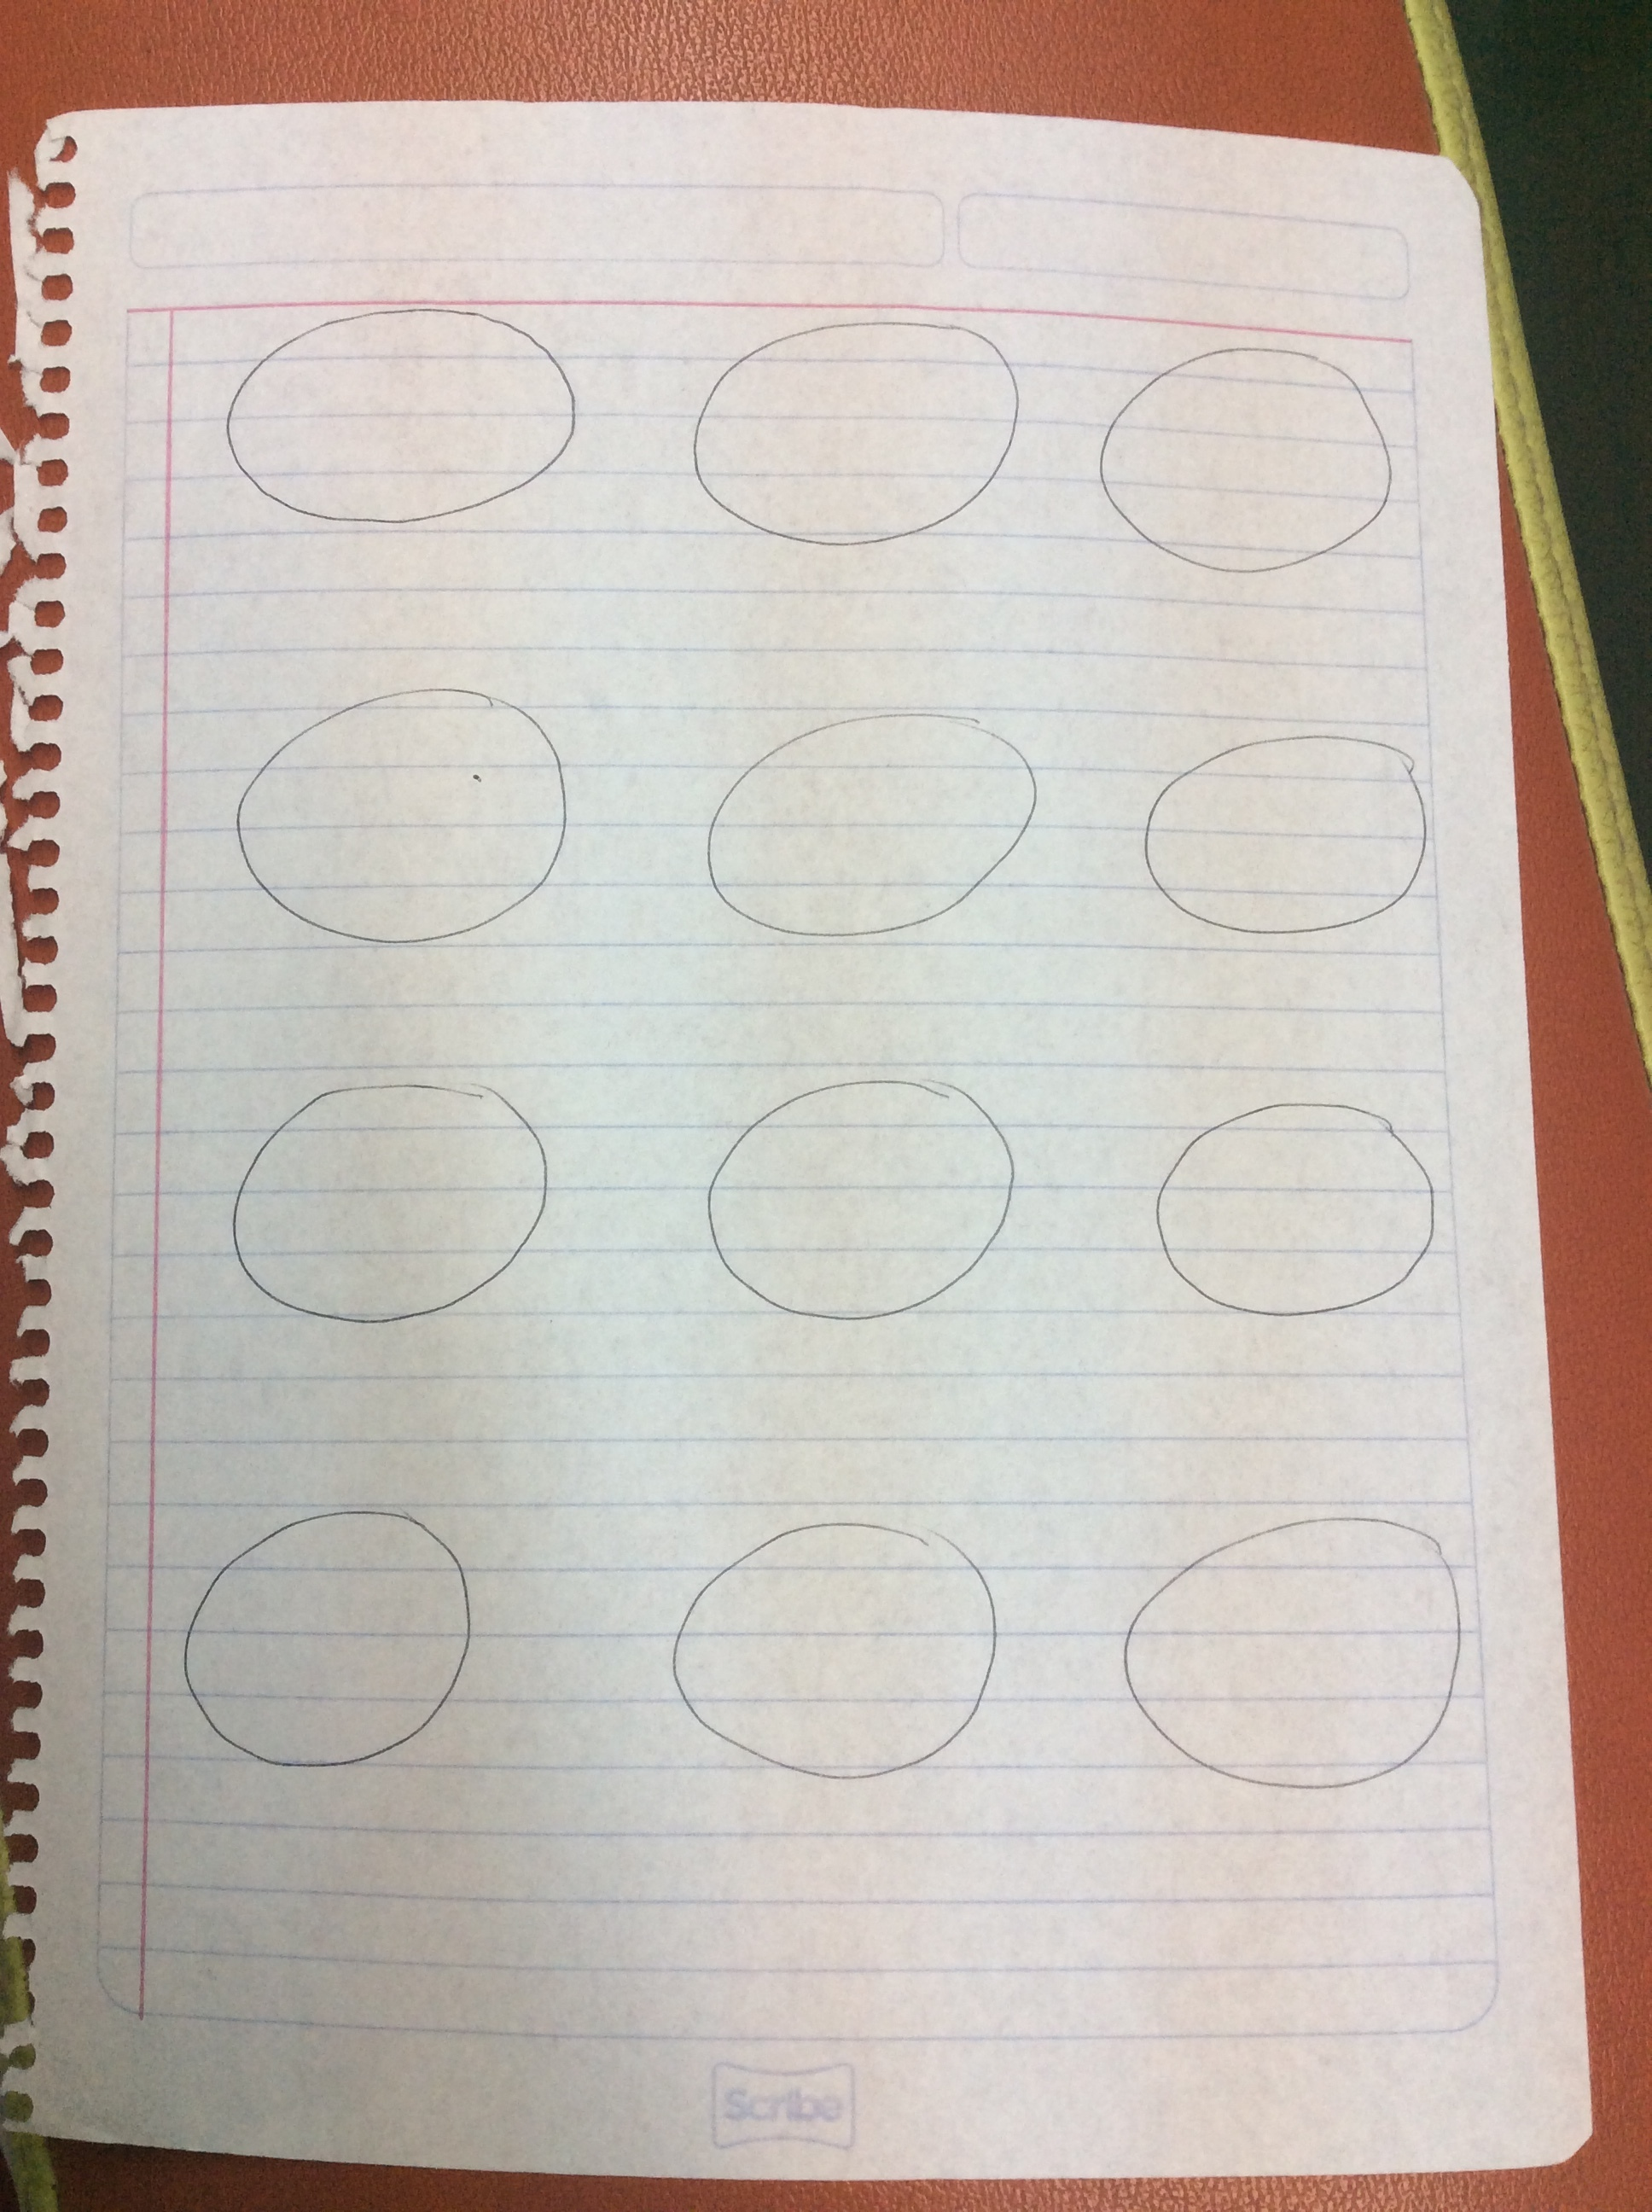start_end: (1111, 1482, 1473, 1837), (630, 1499, 1026, 1810), (668, 666, 1064, 970), (200, 670, 581, 966), (165, 1482, 489, 1792), (684, 276, 1029, 567), (213, 1058, 566, 1338), (210, 283, 588, 540), (694, 1055, 1029, 1345), (1071, 314, 1407, 600), (1121, 685, 1439, 963), (1142, 1086, 1452, 1338)
